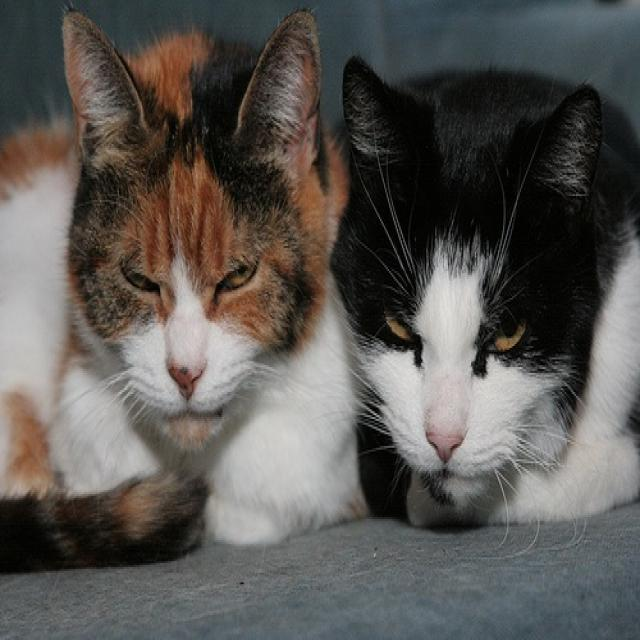cat: (1, 13, 349, 564), (327, 53, 640, 531)
